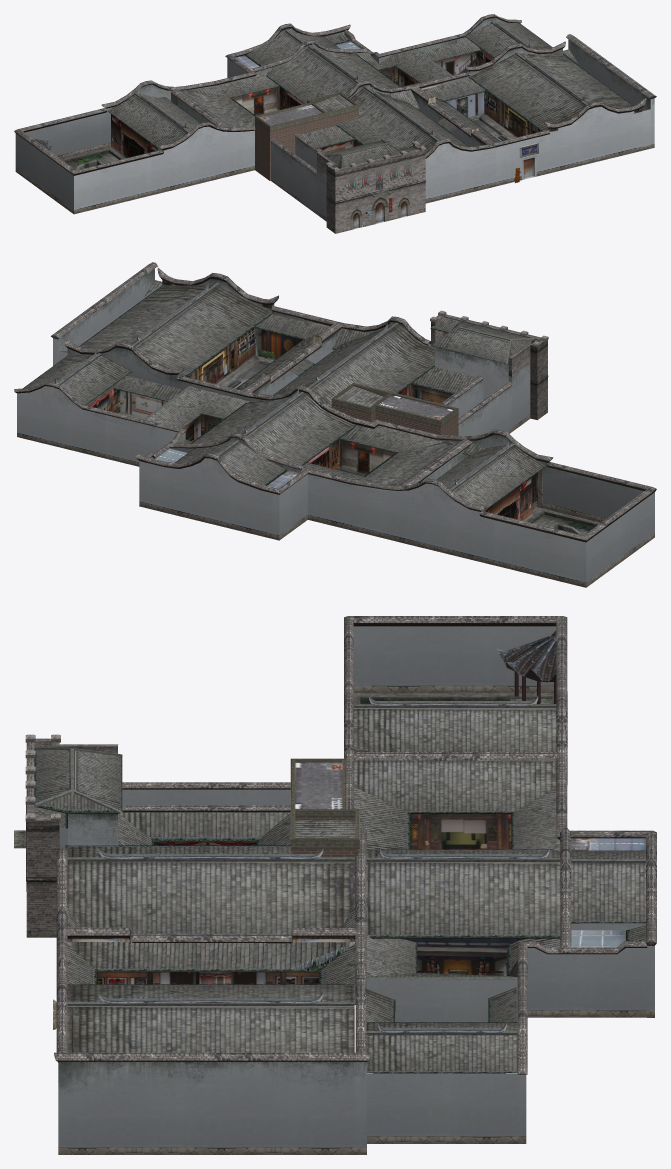
Rendered from small  bly.FBX.
3 renders of one model, top to bottom at view 1: azimuth 30°, elevation 25°; view 2: azimuth 150°, elevation 25°; view 3: azimuth 270°, elevation 25°, orthographic. The views are drawn at different scales.
Parts seen in each view (by area): view 1: bolanyuan; view 2: bolanyuan; view 3: bolanyuan.
Boxes of the visible parts, x1=… form: bolanyuan: x1=14, y1=14, x2=656, y2=233; bolanyuan: x1=14, y1=262, x2=656, y2=587; bolanyuan: x1=14, y1=616, x2=656, y2=1154.
Size of the model in its own units: 179 by 22.4 by 105.
